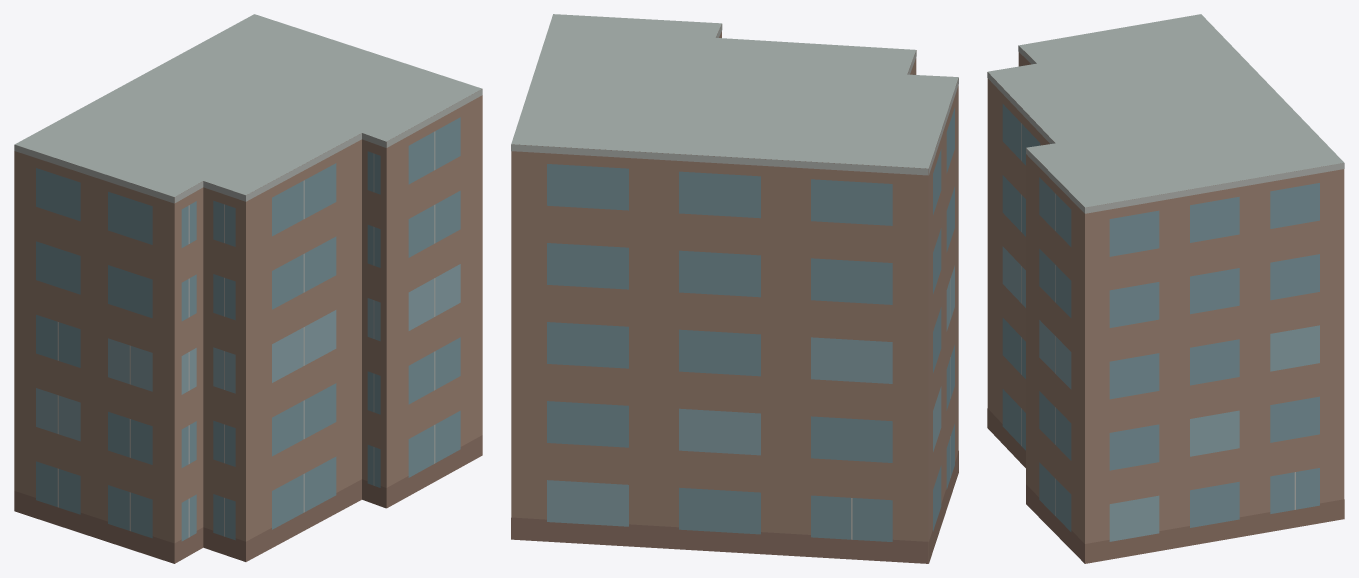
File: survey-upis-32852874.glb
3 renders of one model, left to right at view 1: azimuth 30°, elevation 25°; view 2: azimuth 150°, elevation 25°; view 3: azimuth 270°, elevation 25°, orthographic. The views are drawn at different scales.
Visible parts, largest first — view 1: survey-upis-32852874.tmp; view 2: survey-upis-32852874.tmp; view 3: survey-upis-32852874.tmp.
Boxes of the visible parts, bbox=[...] form: survey-upis-32852874.tmp: bbox=[14, 14, 482, 563]; survey-upis-32852874.tmp: bbox=[511, 14, 958, 563]; survey-upis-32852874.tmp: bbox=[987, 14, 1344, 563].
Bounding box in the file's own units: 16.26 × 13.95 × 12.68.
